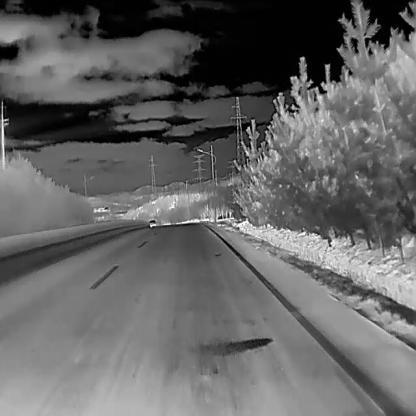car: (149, 219, 156, 225)
